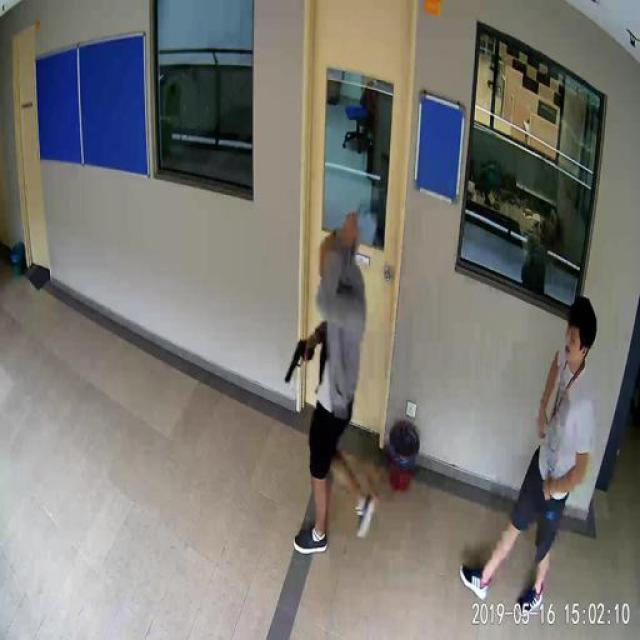weapon: (280, 337, 317, 387)
